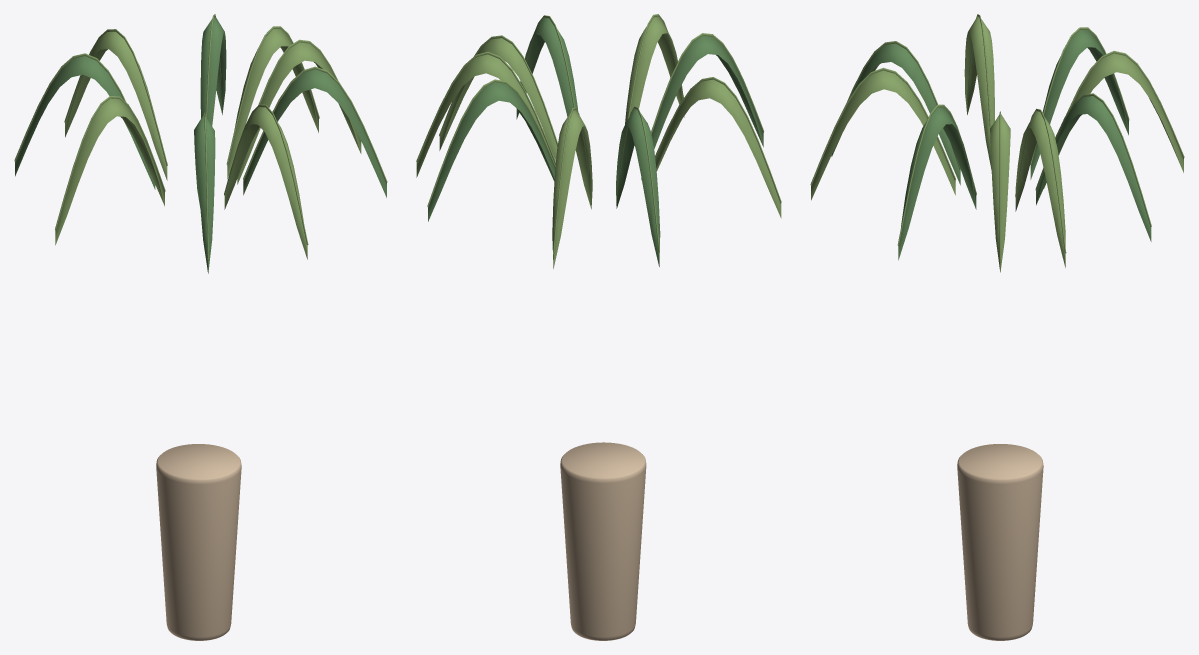
The model's file is plant-small.glb.
3 views of the same model, side by side, from view 1: azimuth 30°, elevation 25°; view 2: azimuth 150°, elevation 25°; view 3: azimuth 270°, elevation 25° (orthographic).
Visible parts, largest first — view 1: plant-small-mesh; view 2: plant-small-mesh; view 3: plant-small-mesh.
Part boxes in pixels (x1,y1,x2,y2): plant-small-mesh: (14, 14, 387, 640); plant-small-mesh: (416, 14, 781, 640); plant-small-mesh: (810, 14, 1184, 640).
Size of the model in its own units: 0.3 by 0.5 by 0.3.
